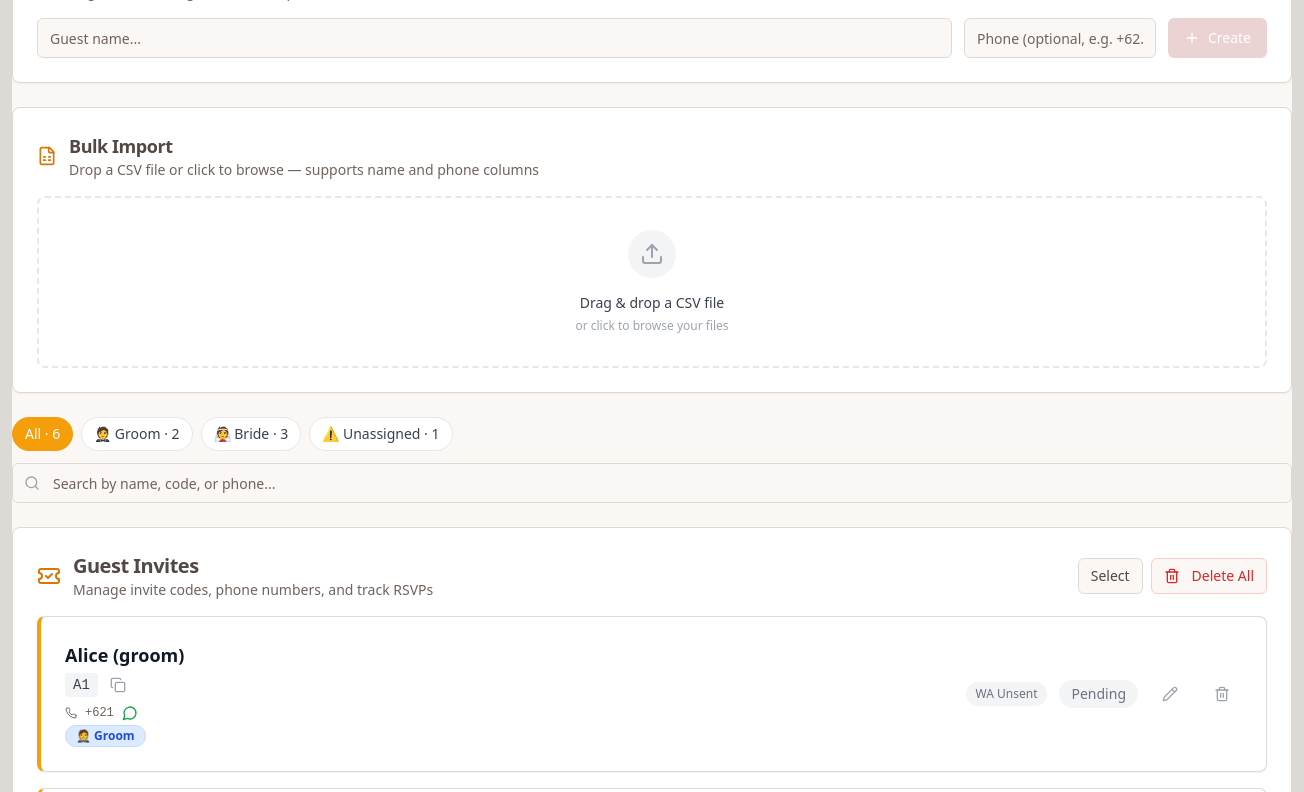
Test case: InvitesPage — side filter chips › updates the Send All button label based on the active filter
(page scrolled)
Click the radio button with test id "side-filter-groom" at (137, 434), box x1=81 y1=417 x2=193 y2=451
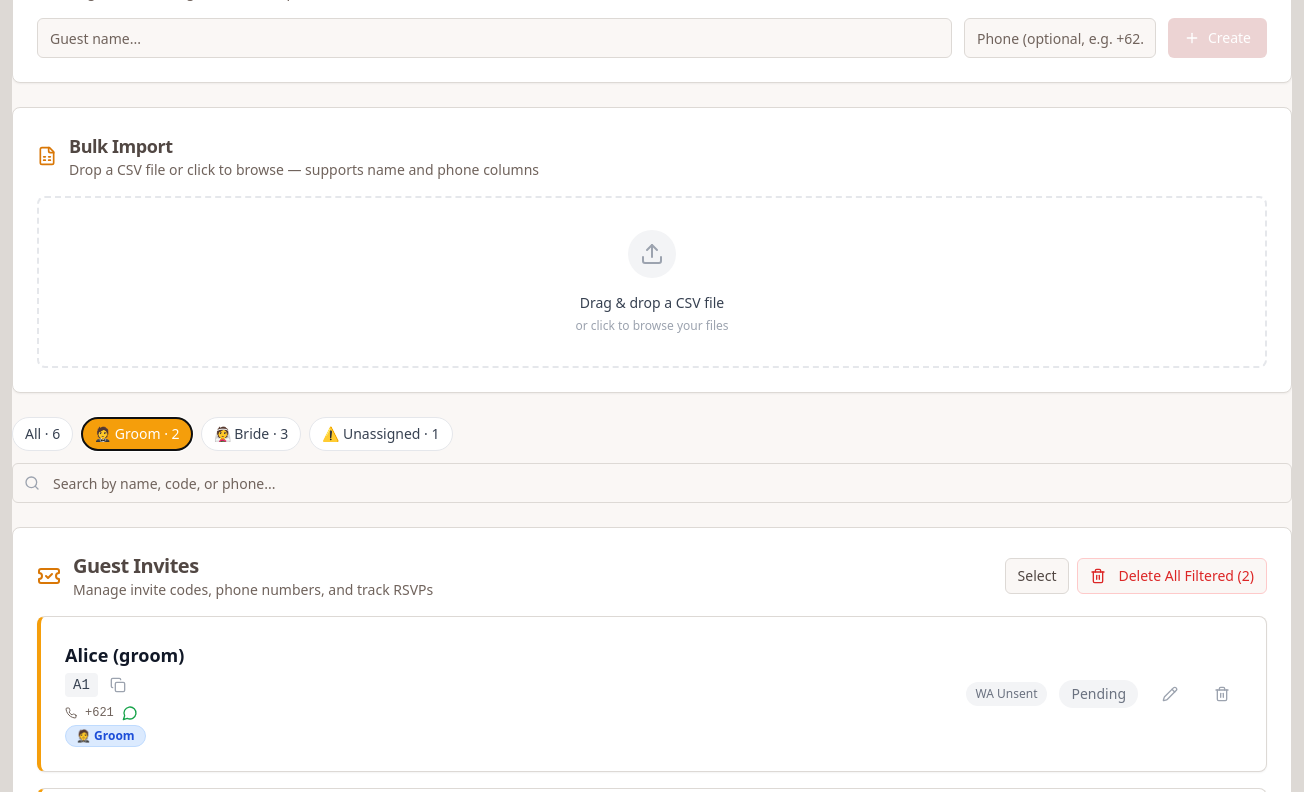
Click the radio button with test id "side-filter-bride" at (251, 434), box x1=201 y1=417 x2=301 y2=451
(page scrolled)
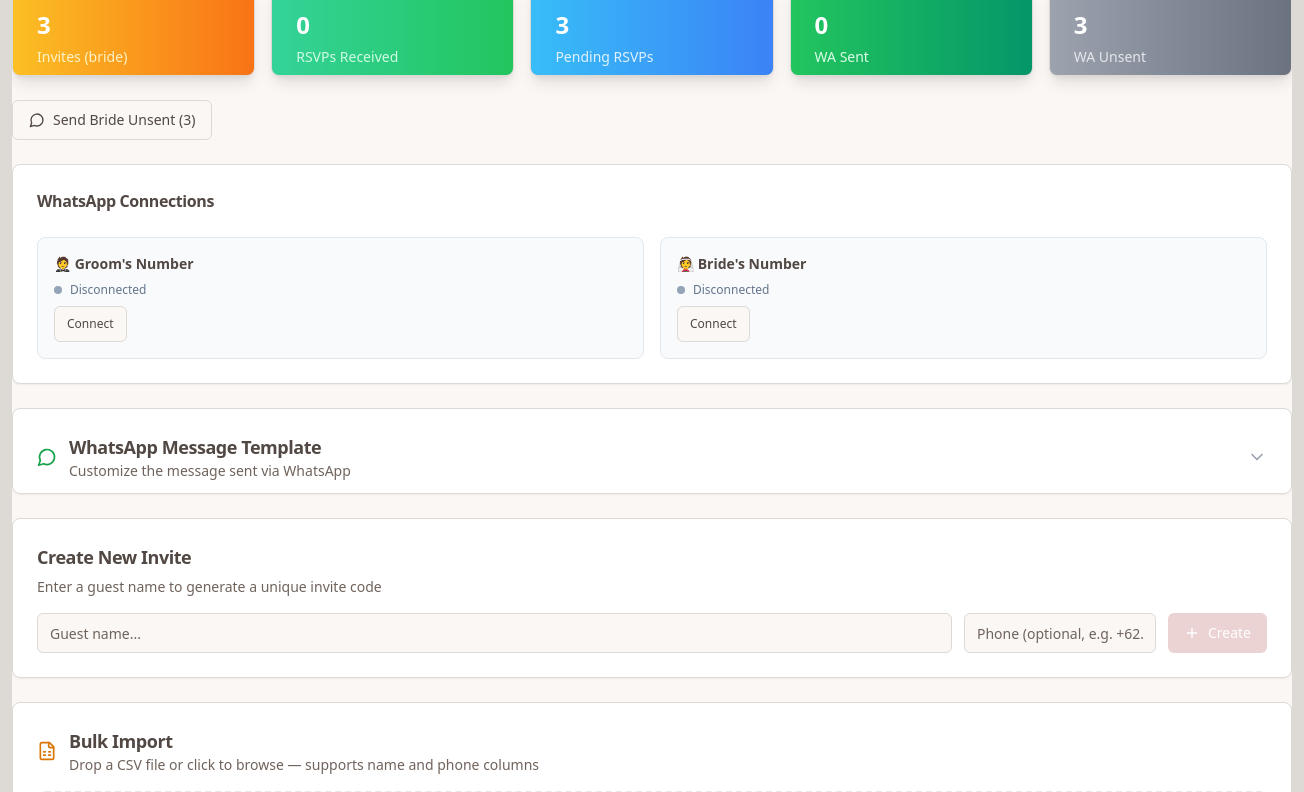
Now the button "Send Bride Unsent (3)" is shown, box x1=12 y1=100 x2=212 y2=140
